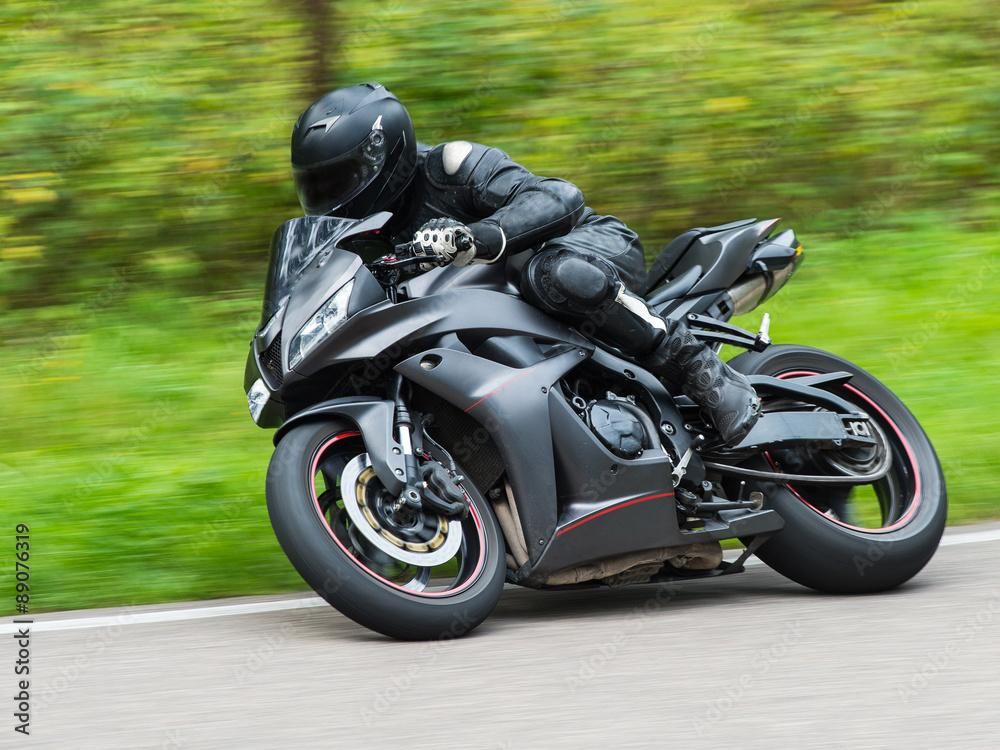helmet: (290, 80, 419, 238)
